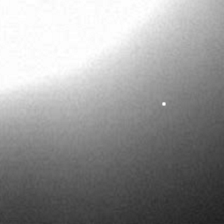Target: (160, 100, 167, 107)
